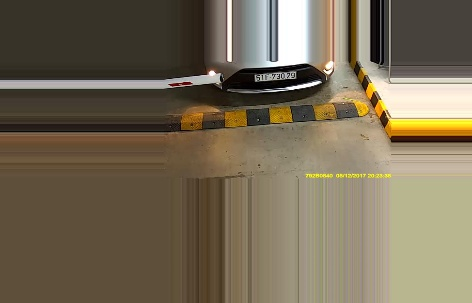plate: (253, 69, 296, 81)
